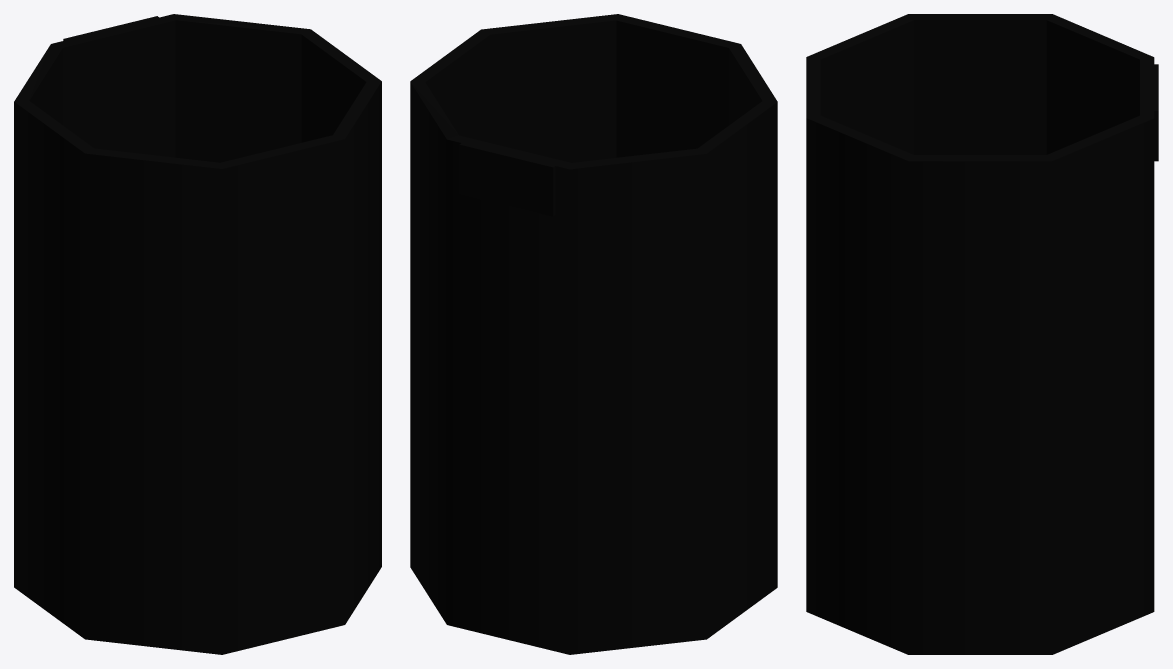
File: Itr_Trashcan4_Body_03.FBX
The picture shows the model from 3 angles, left to right: view 1: azimuth 30°, elevation 25°; view 2: azimuth 150°, elevation 25°; view 3: azimuth 270°, elevation 25°; orthographic projection.
Visible parts, largest first — view 1: Itr_Trashcan4_Body_03; view 2: Itr_Trashcan4_Body_03; view 3: Itr_Trashcan4_Body_03.
Boxes of the visible parts, left/top/right/bottom form: Itr_Trashcan4_Body_03: left=14, top=14, right=381, bottom=654; Itr_Trashcan4_Body_03: left=410, top=14, right=777, bottom=654; Itr_Trashcan4_Body_03: left=806, top=14, right=1158, bottom=654.
Size of the model in its own units: 12.01 by 18.79 by 12.15.
